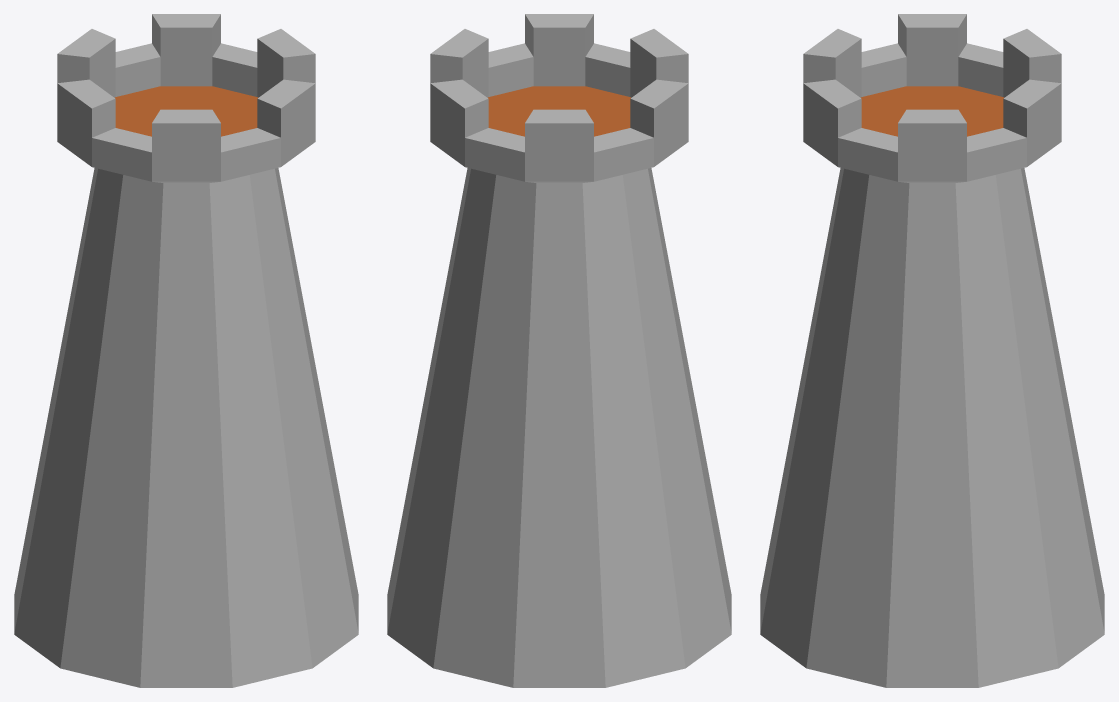
Rendered from tower.obj.
3 renders of one model, left to right at view 1: azimuth 30°, elevation 25°; view 2: azimuth 150°, elevation 25°; view 3: azimuth 270°, elevation 25°, orthographic.
Parts seen in each view (by area): view 1: cylinder; view 2: cylinder; view 3: cylinder.
Boxes of the visible parts, left/top/right/bottom form: cylinder: left=14, top=14, right=358, bottom=687; cylinder: left=387, top=14, right=731, bottom=687; cylinder: left=760, top=14, right=1104, bottom=687.
Size of the model in its own units: 0.5 by 0.875 by 0.5.
Materials: 1 (1 with a texture image).
